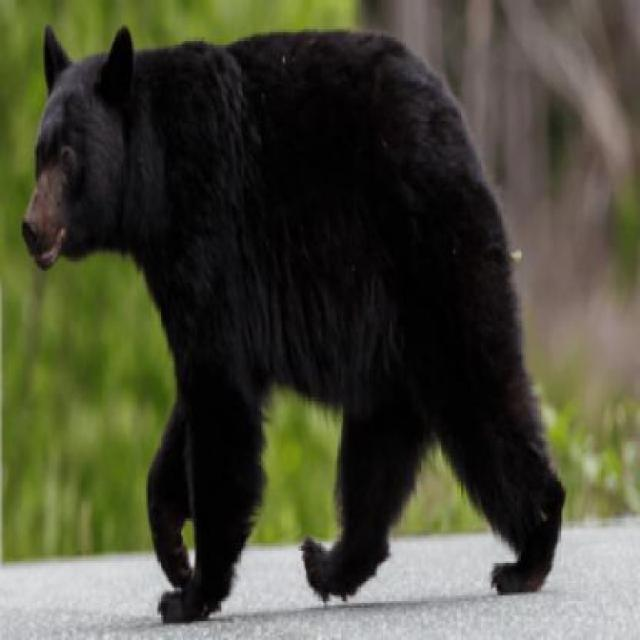Bear: (29, 0, 575, 618)
